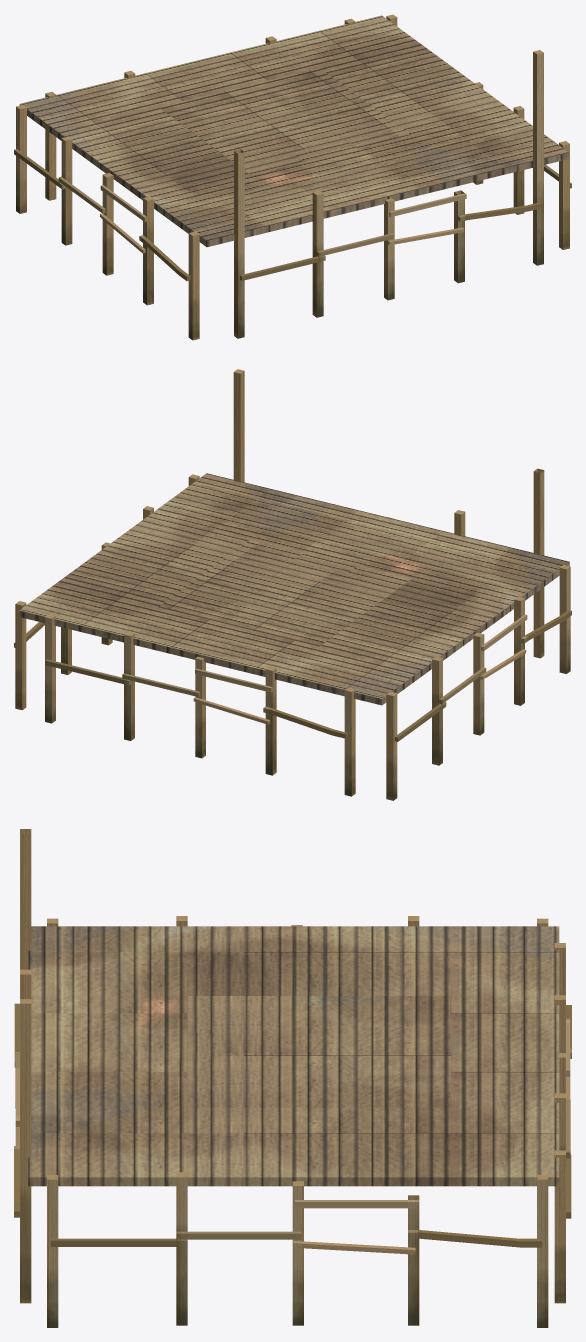
Rendered from palette.fbx.
The picture shows the model from 3 angles, top to bottom: view 1: azimuth 30°, elevation 25°; view 2: azimuth 150°, elevation 25°; view 3: azimuth 270°, elevation 25°; orthographic projection. The views are drawn at different scales.
Parts seen in each view (by area): view 1: house, pillars; view 2: house, pillars; view 3: house, pillars.
Boxes of the visible parts, x1,y1,x2,y2 form: house: (19,15,569,247); pillars: (14,14,571,340); house: (19,473,569,705); pillars: (14,369,571,800); house: (28,926,559,1186); pillars: (14,829,571,1327).
Size of the model in its own units: 478 by 251 by 423.
2 materials, 2 textured.
